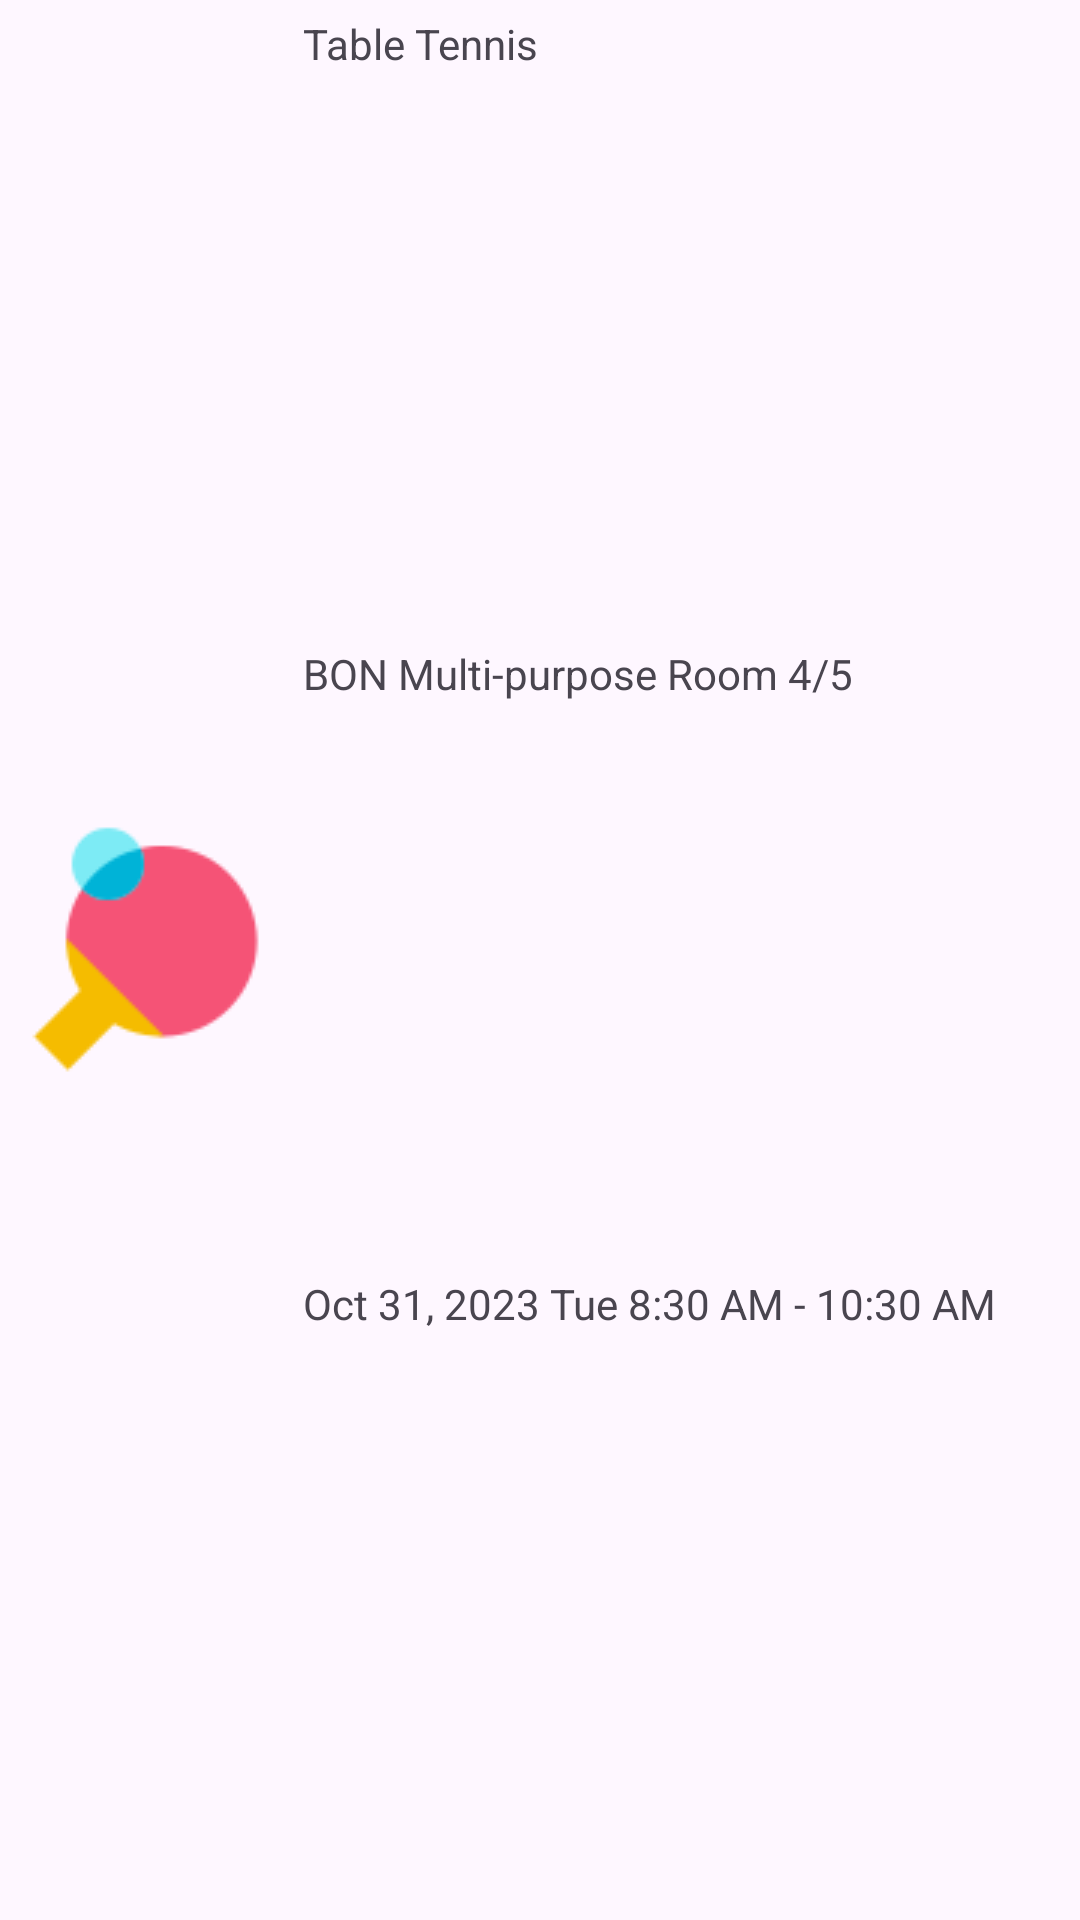

Icons on this 1080px×1920px Android screen, each with its box as (x1, y1, x2, y2):
table tennis: (32, 827, 259, 1072)
